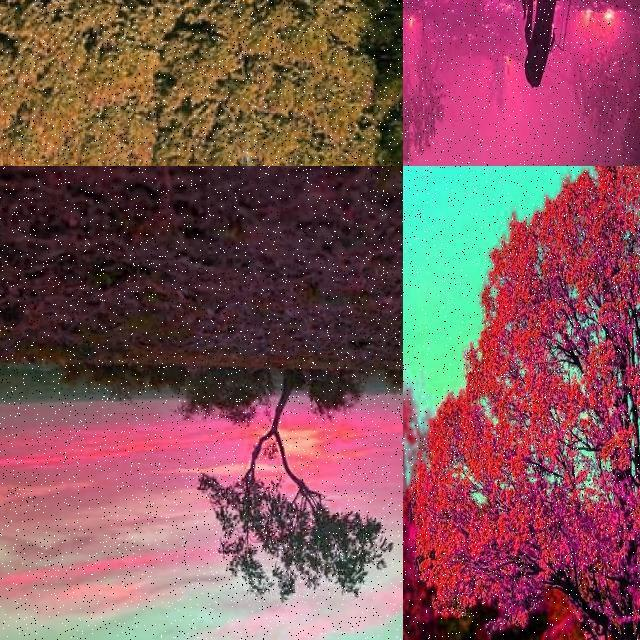tree: (412, 166, 640, 640), (201, 364, 391, 604), (161, 0, 383, 166), (0, 0, 170, 166), (404, 446, 461, 640), (1, 0, 44, 166), (406, 8, 446, 156), (576, 33, 628, 139), (403, 0, 429, 156), (403, 5, 423, 166), (308, 372, 364, 426), (403, 21, 435, 114), (623, 44, 640, 164), (488, 51, 512, 113), (403, 21, 413, 91)
